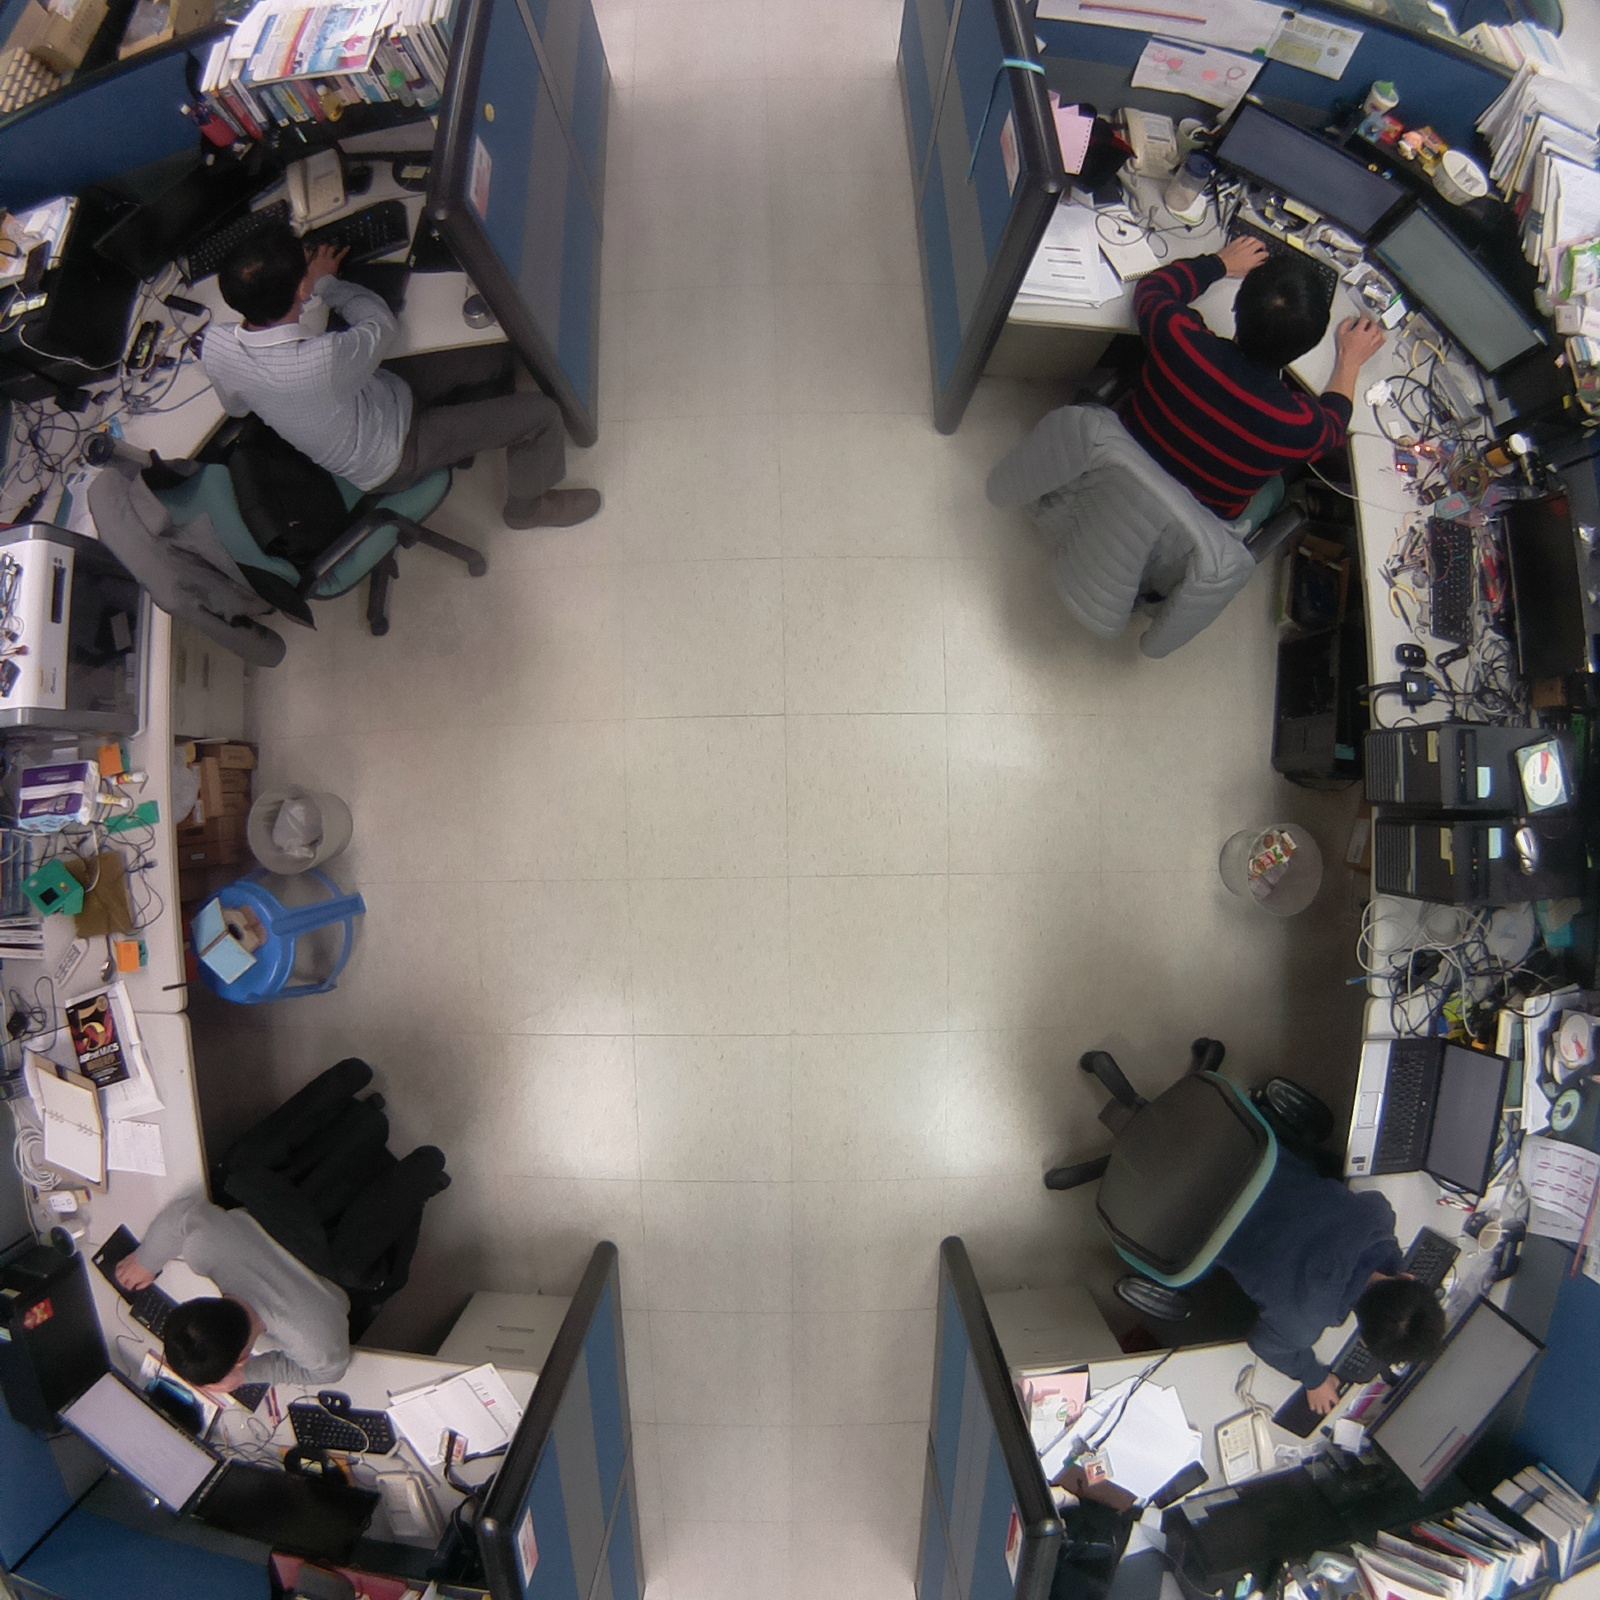head: (1223, 248, 1338, 361), (1346, 1268, 1457, 1374), (210, 221, 315, 331), (153, 1280, 255, 1387)
sitting: (70, 206, 619, 665), (960, 234, 1391, 683), (1032, 1022, 1462, 1417), (104, 1040, 458, 1401)
